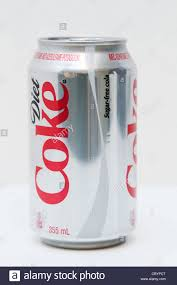can: (21, 29, 146, 256)
